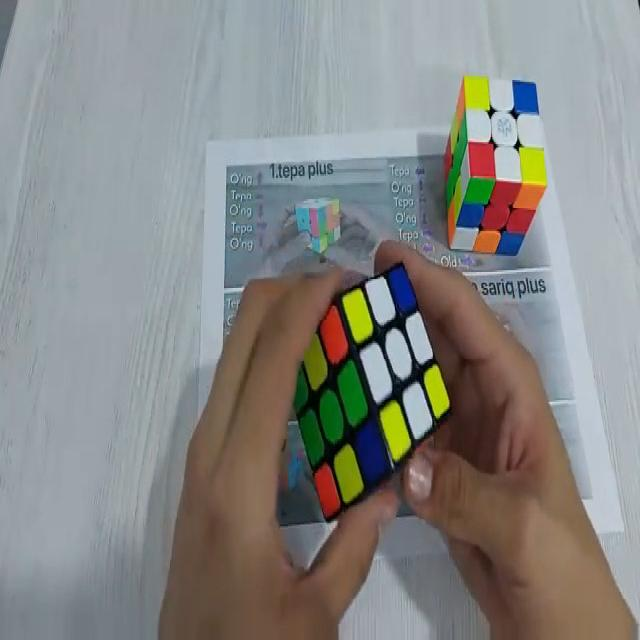Rub: (288, 262, 453, 520), (443, 76, 546, 255)
